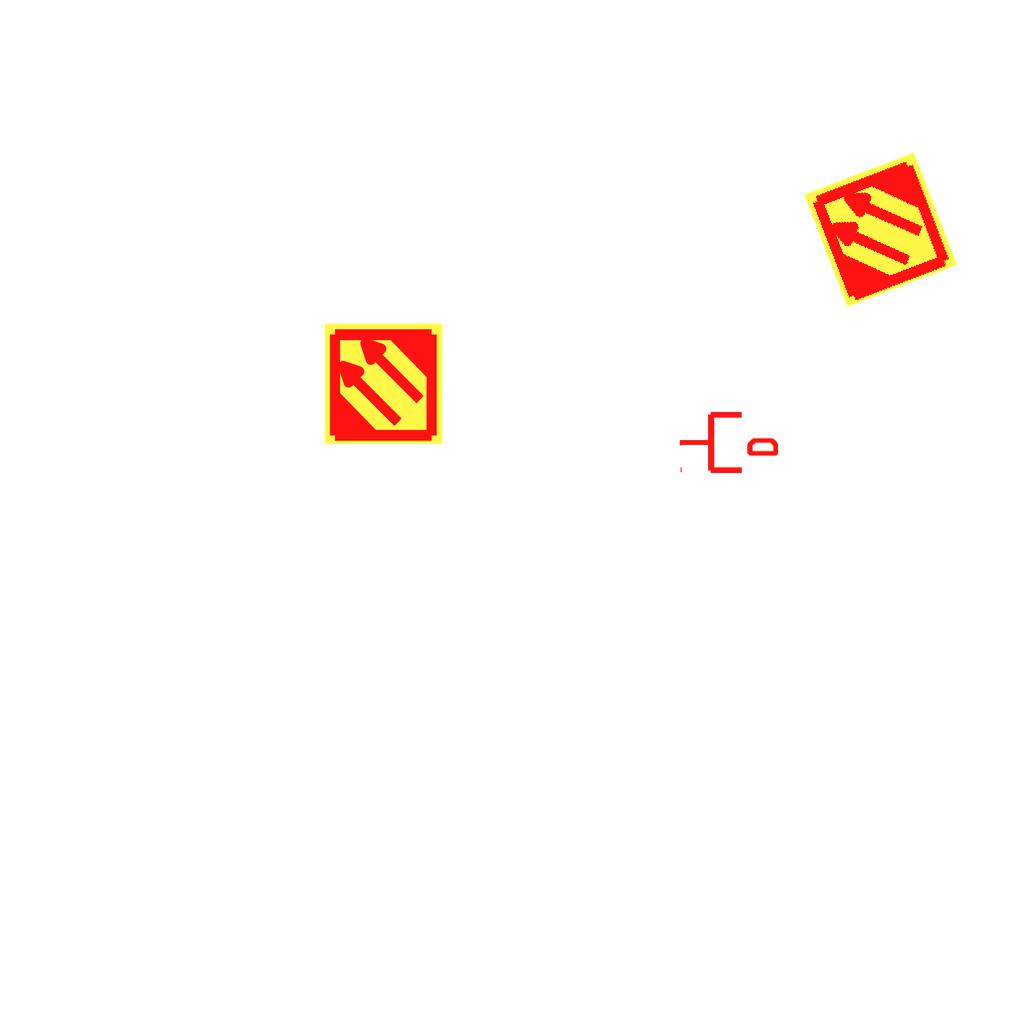ASR_Ansaugrauchmelder: (799, 148, 962, 311), (321, 321, 446, 446)
Datenanschluss_einfach: (678, 408, 778, 477)
